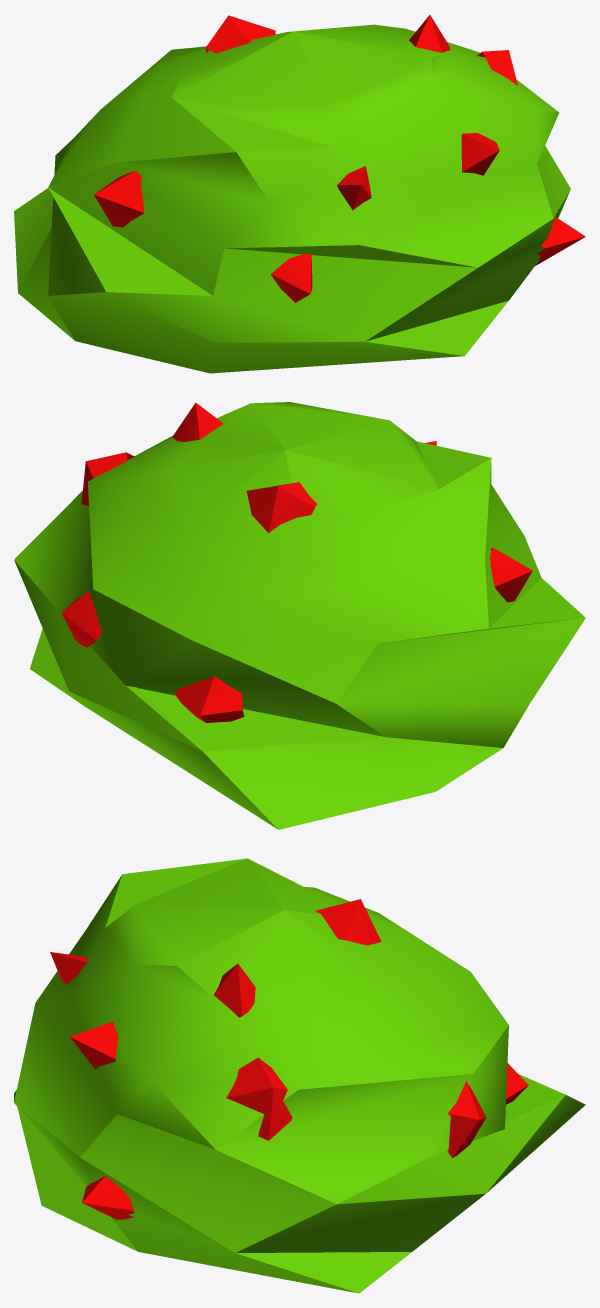
Rendered from berry_bush.glb.
The picture shows the model from 3 angles, top to bottom: view 1: azimuth 30°, elevation 25°; view 2: azimuth 150°, elevation 25°; view 3: azimuth 270°, elevation 25°; orthographic projection. The views are drawn at different scales.
Parts seen in each view (by area): view 1: default4_Material_0; view 2: default4_Material_0; view 3: default4_Material_0.
Part boxes in pixels (x1=…): default4_Material_0: x1=14, y1=15, x2=585, y2=373; default4_Material_0: x1=14, y1=402, x2=585, y2=829; default4_Material_0: x1=14, y1=858, x2=585, y2=1293.
Size of the model in its own units: 2.11 by 1.04 by 1.98.
Materials: 1 (1 with a texture image).
